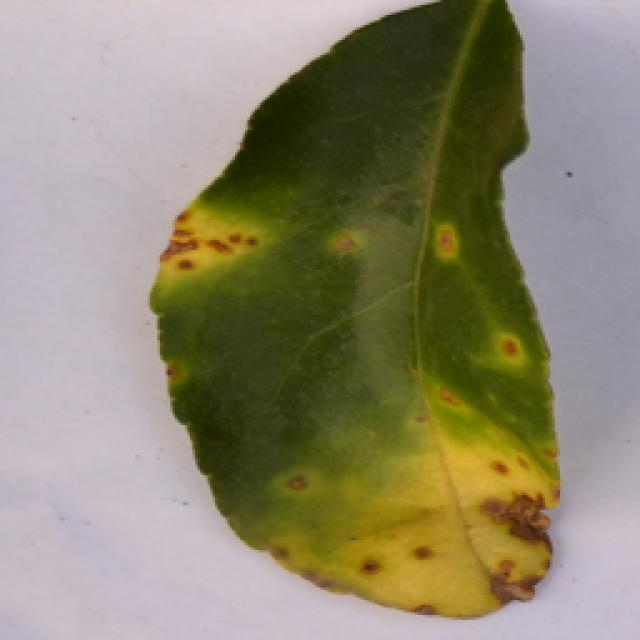canker: (142, 41, 603, 608)
